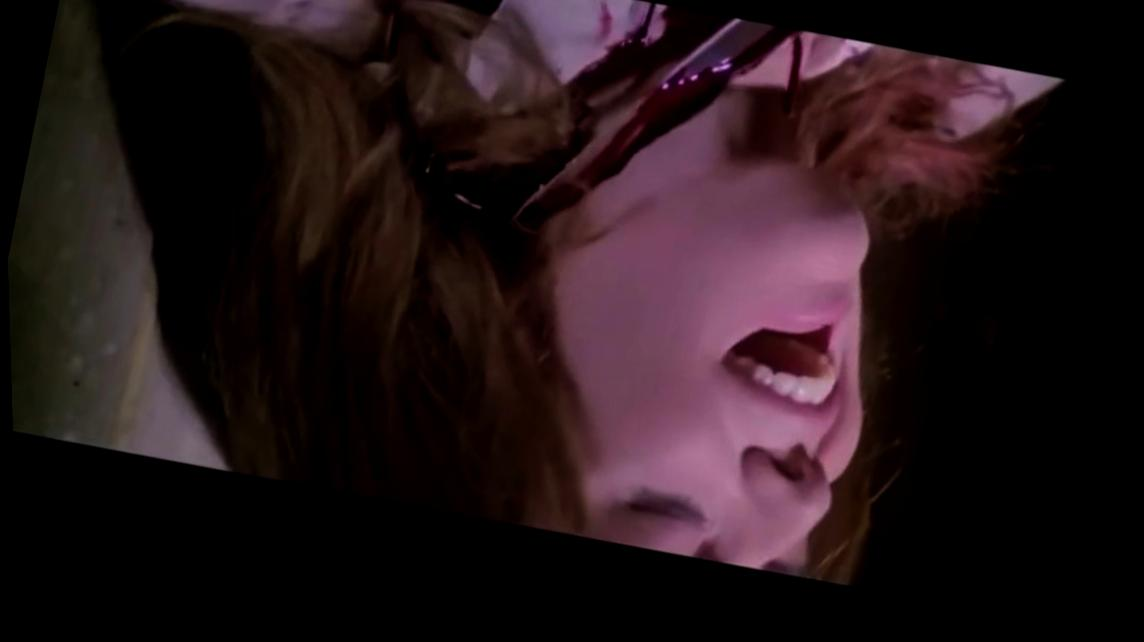Fire: (363, 0, 804, 246)
